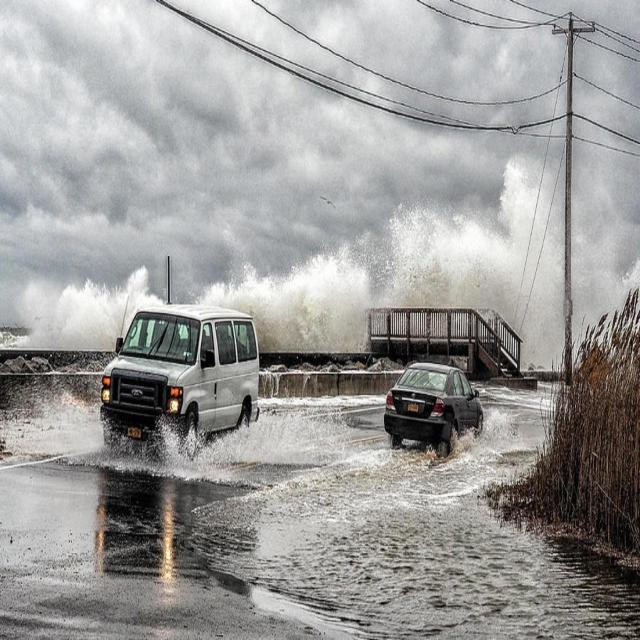Car: (384, 320, 486, 459)
Van: (96, 297, 264, 462)
